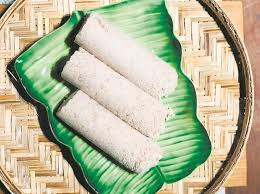pittu: (63, 14, 177, 178)
